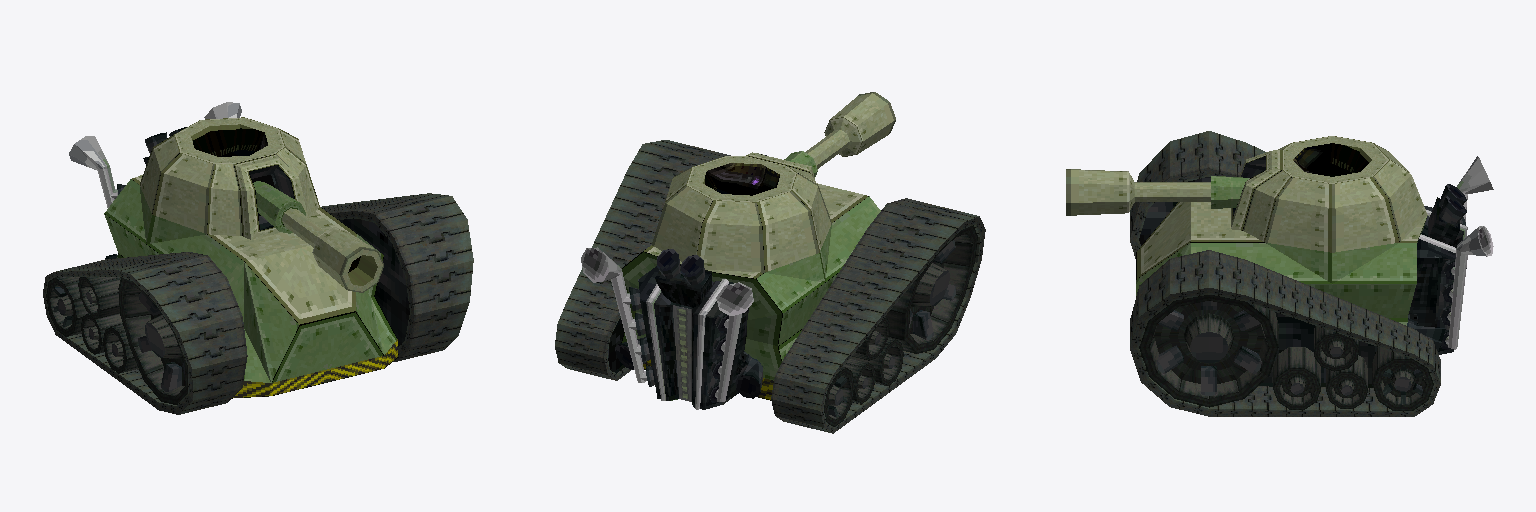
The picture shows the model from 3 angles: view 1: azimuth 30°, elevation 25°; view 2: azimuth 150°, elevation 25°; view 3: azimuth 270°, elevation 25°; orthographic projection.
Visible parts, largest first — view 1: TANK, TANK_TURRET; view 2: TANK, TANK_TURRET; view 3: TANK, TANK_TURRET.
Boxes of the visible parts, <box> form: TANK: <box>43,102,473,414</box>; TANK_TURRET: <box>140,117,383,292</box>; TANK: <box>555,140,985,433</box>; TANK_TURRET: <box>652,92,895,272</box>; TANK: <box>1130,131,1493,416</box>; TANK_TURRET: <box>1066,136,1427,252</box>.
Bounding box in the file's own units: 540 × 309 × 622.
2 materials, 2 textured.